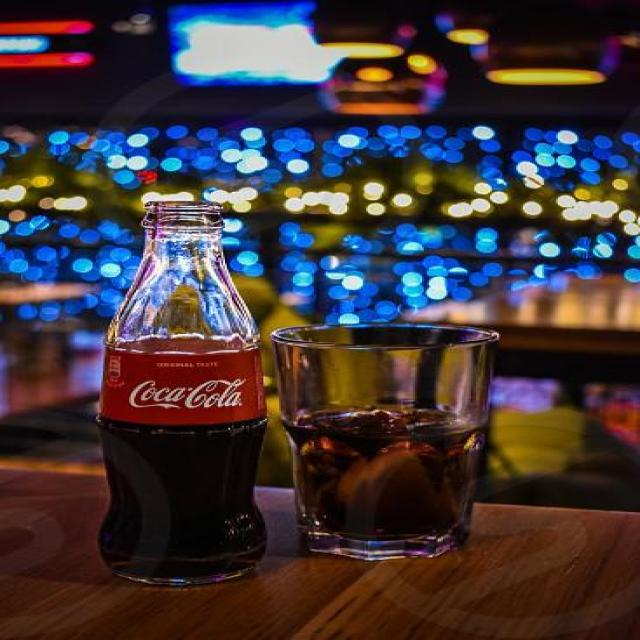coca-cola: (90, 198, 282, 583)
